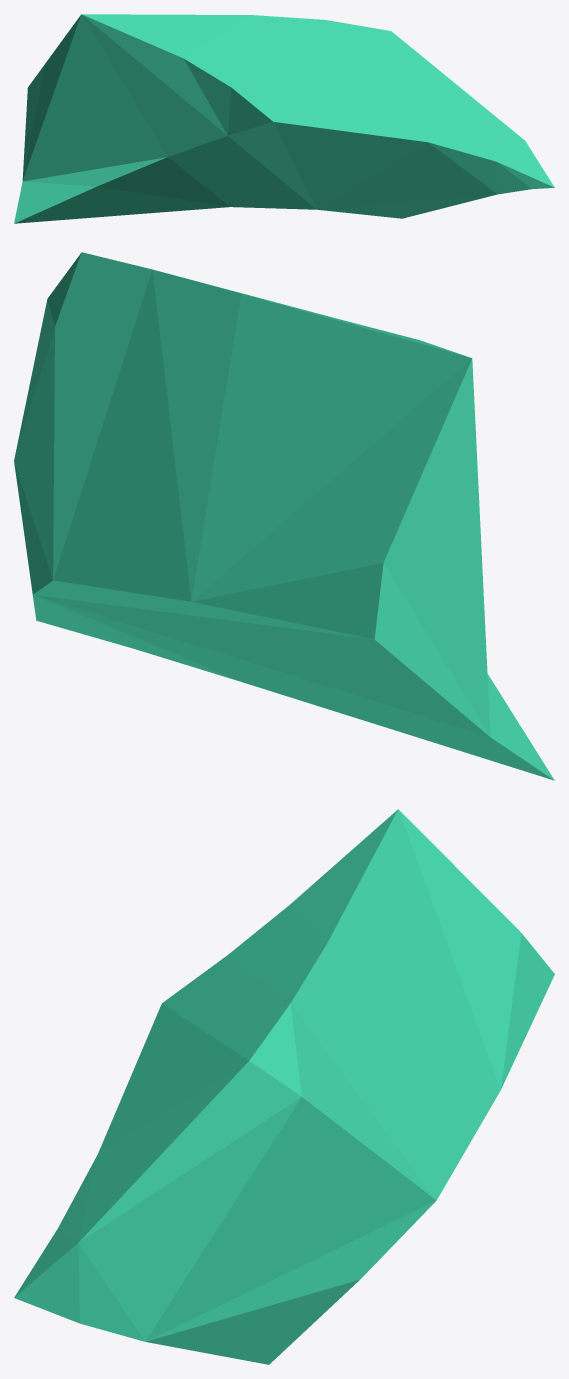
The model's file is debris3.fbx.
3 renders of one model, top to bottom at view 1: azimuth 30°, elevation 25°; view 2: azimuth 150°, elevation 25°; view 3: azimuth 270°, elevation 25°, orthographic. The views are drawn at different scales.
Parts seen in each view (by area): view 1: pCube167; view 2: pCube167; view 3: pCube167.
Boxes of the visible parts, <box> form: pCube167: <box>14,14,554,223</box>; pCube167: <box>14,252,554,780</box>; pCube167: <box>14,809,554,1364</box>.
Size of the model in its own units: 1.6 by 0.9193 by 1.27.
